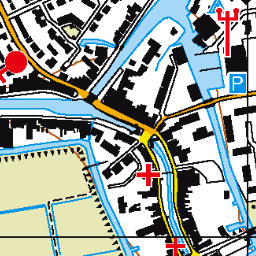church: (1, 49, 30, 90)
